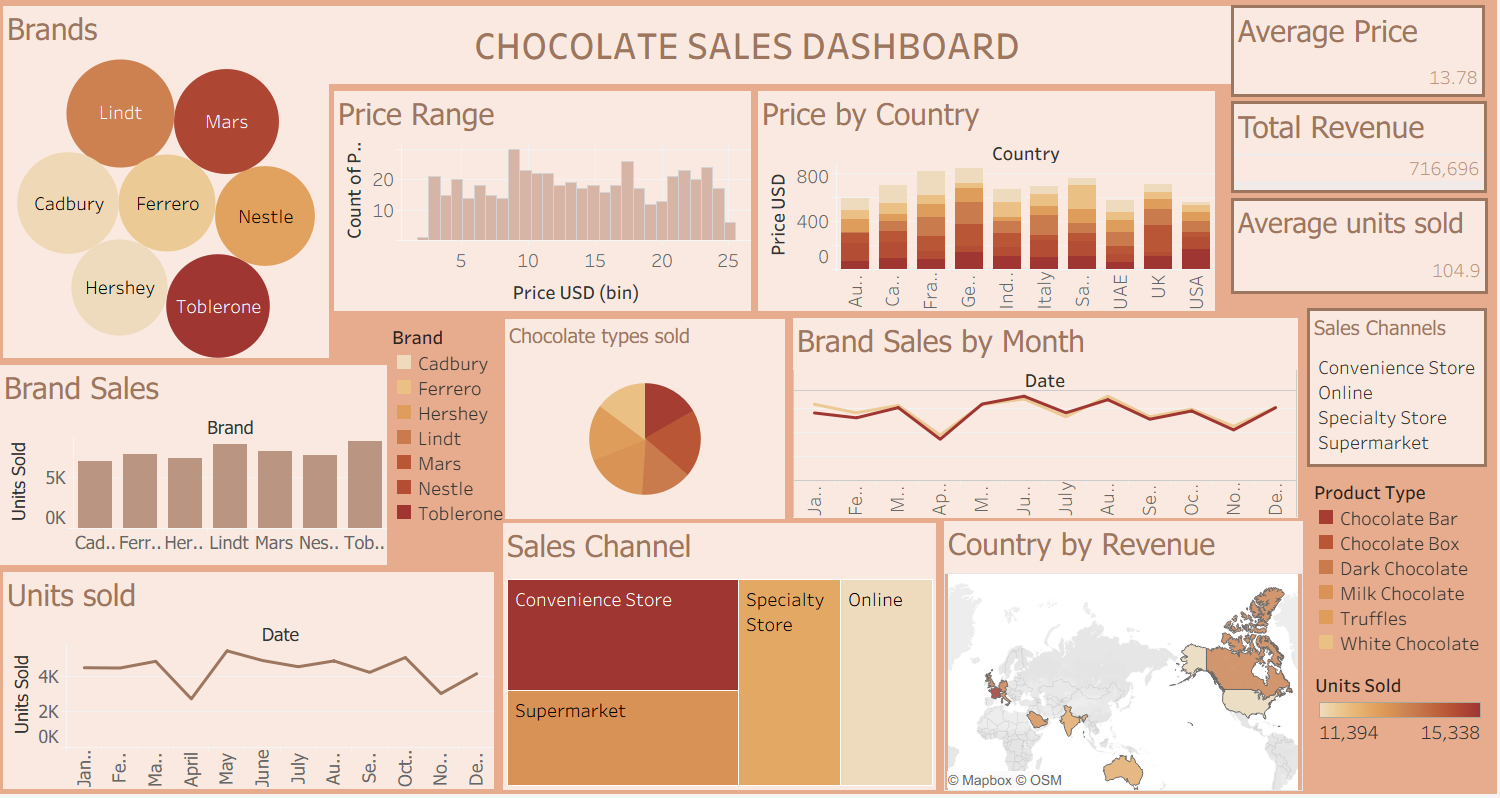

The page's visual inventory and layout, read from the dashboard file:
{"tool":"tableau","page":{"name":"Dashboard 1","canvas":[1000,1000],"units":"permille","ordinal":0},"visuals":[{"type":"title","box":[5.3,10,989.3,107.5]},{"type":"worksheet","title":"Sheet 9","mark":"Automatic","box":[822.7,13.8,169.3,115]},{"type":"worksheet","title":"Sheet 8","mark":"Circle","box":[4,15,217.3,440]},{"type":"worksheet","title":"Sheet 10","mark":"Automatic","rows":["Price_USD"],"cols":["Price USD (bin)"],"box":[224.7,121.2,278,275]},{"type":"worksheet","title":"Sheet 7","mark":"Automatic","rows":["Price_USD"],"cols":["Country"],"box":[507.3,121.2,304.7,275]},{"type":"worksheet","title":"Sheet 1","mark":"Automatic","box":[822.7,133.8,170.7,115]},{"type":"worksheet","title":"Sheet 13","mark":"Automatic","box":[822.7,255,171.3,120]},{"type":"worksheet","title":"Sheet 11","mark":"Automatic","box":[873.3,392.5,120,198.8]},{"type":"legend","title":"Sheet 12","param":"[federated.01s8sfk043qf0011tyhz70ffnmps].[none:Country:nk]","box":[651.3,403.8,93.3,345]},{"type":"worksheet","title":"Sheet 12","mark":"Automatic","rows":["Price_USD","Revenue_USD"],"cols":["Date"],"box":[530.7,405,336.7,250]},{"type":"worksheet","title":"Sheet 4","mark":"Pie","box":[338.7,406.2,186.7,250]},{"type":"legend","title":"Sheet 7","param":"[federated.01s8sfk043qf0011tyhz70ffnmps].[none:Brand:nk]","box":[263.3,412.5,81.3,251.2]},{"type":"worksheet","title":"Sheet 3","mark":"Automatic","rows":["Units_Sold"],"cols":["Brand"],"box":[2,463.8,258,250]},{"type":"legend","title":"Sheet 4","param":"[federated.01s8sfk043qf0011tyhz70ffnmps].[none:Product_Type:nk]","box":[878,606.2,116,228.8]},{"type":"worksheet","title":"Sheet 6","mark":"Automatic","box":[631.3,658.8,239.3,337.5]},{"type":"worksheet","title":"Sheet 5","mark":"Automatic","box":[337.3,661.2,288.7,333.8]},{"type":"worksheet","title":"Sheet 2","mark":"Automatic","rows":["Units_Sold"],"cols":["Date"],"box":[4,722.5,327.3,271.2]},{"type":"legend","title":"Sheet 5","param":"[federated.01s8sfk043qf0011tyhz70ffnmps].[sum:Units_Sold:qk]","box":[878.7,847.5,113.3,96.2]}]}

Visuals, with their boxes on the dashboard's canvas, which has no fixed pixel size, in thousandths of its width and height (x1, y1, x2, y2). These are canvas units, not pixel positions in the 1500x798 screenshot, which may show the page scaled, cropped or inside an application window:
title: <region>5, 10, 995, 118</region>
"Sheet 9" worksheet: <region>823, 14, 992, 129</region>
"Sheet 8" worksheet (Circle marks): <region>4, 15, 221, 455</region>
"Sheet 10" worksheet: <region>225, 121, 503, 396</region>
"Sheet 7" worksheet: <region>507, 121, 812, 396</region>
"Sheet 1" worksheet: <region>823, 134, 993, 249</region>
"Sheet 13" worksheet: <region>823, 255, 994, 375</region>
"Sheet 11" worksheet: <region>873, 392, 993, 591</region>
"Sheet 12" legend: <region>651, 404, 745, 749</region>
"Sheet 12" worksheet: <region>531, 405, 867, 655</region>
"Sheet 4" worksheet (Pie marks): <region>339, 406, 525, 656</region>
"Sheet 7" legend: <region>263, 412, 345, 664</region>
"Sheet 3" worksheet: <region>2, 464, 260, 714</region>
"Sheet 4" legend: <region>878, 606, 994, 835</region>
"Sheet 6" worksheet: <region>631, 659, 871, 996</region>
"Sheet 5" worksheet: <region>337, 661, 626, 995</region>
"Sheet 2" worksheet: <region>4, 722, 331, 994</region>
"Sheet 5" legend: <region>879, 848, 992, 944</region>
